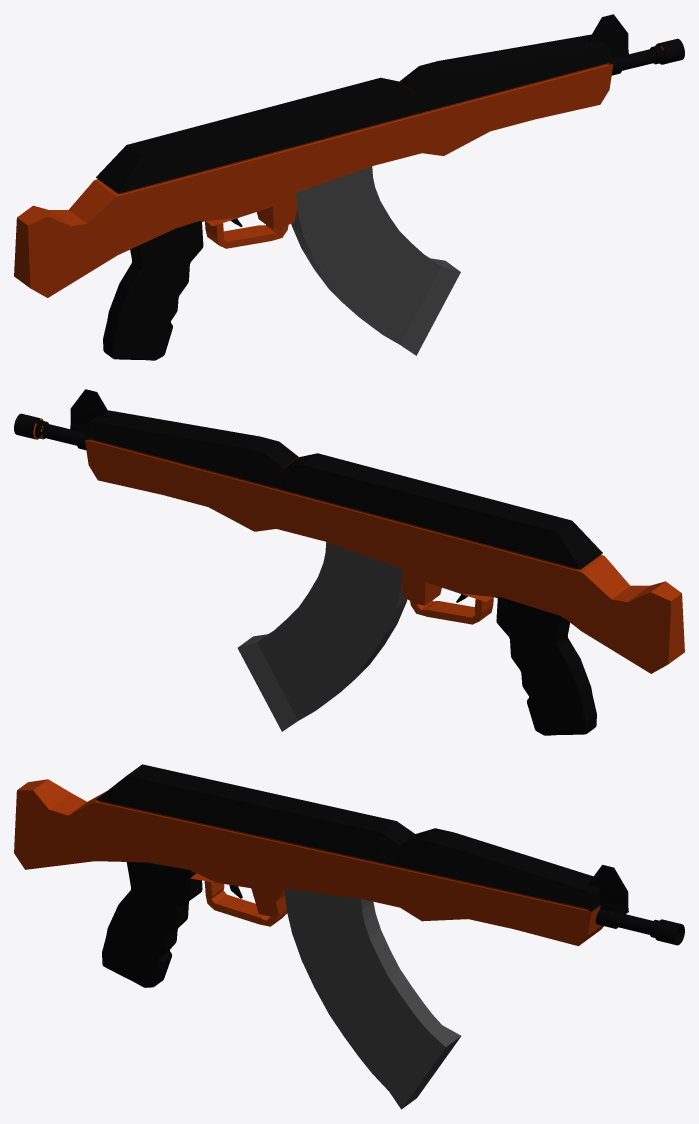
File: fusil.fbx
3 renders of one model, top to bottom at view 1: azimuth 30°, elevation 25°; view 2: azimuth 150°, elevation 25°; view 3: azimuth 330°, elevation 25°, orthographic.
Parts seen in each view (by area): view 1: Plane.001; view 2: Plane.001; view 3: Plane.001.
Part boxes in pixels (x1,y1,x2,y2): Plane.001: (14,14,684,360); Plane.001: (14,389,684,735); Plane.001: (14,764,684,1109).
Size of the model in its own units: 1098 by 457 by 65.28.
